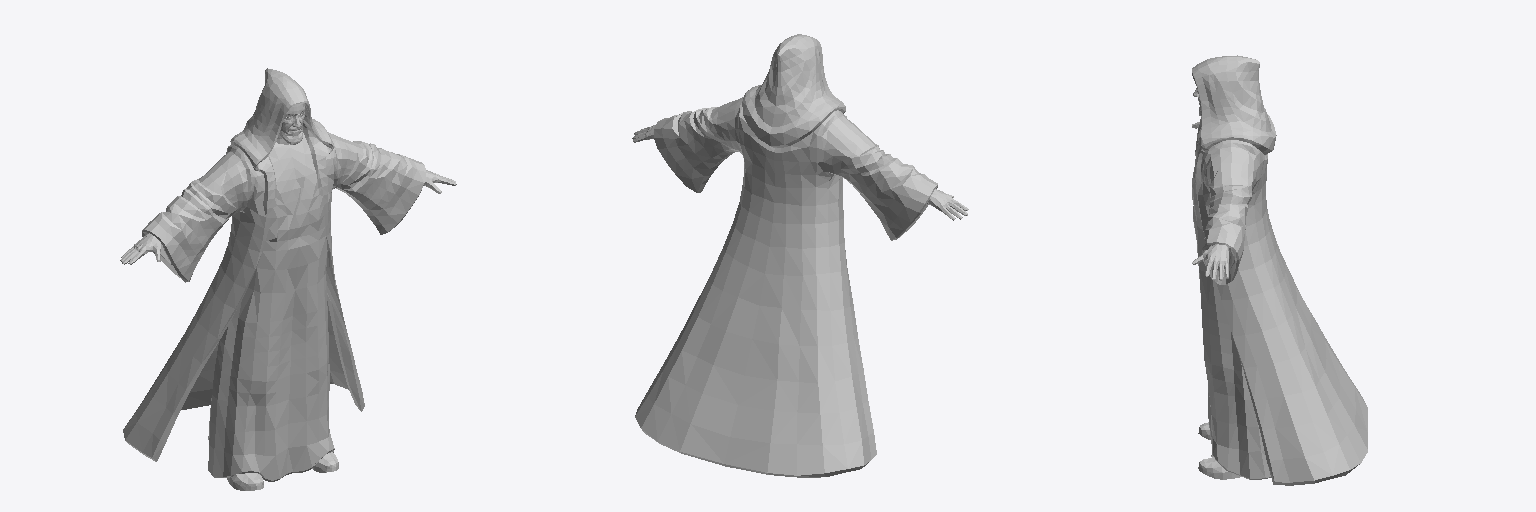
The model's file is ben kenobi.obj.
The picture shows the model from 3 angles: view 1: azimuth 30°, elevation 25°; view 2: azimuth 150°, elevation 25°; view 3: azimuth 270°, elevation 25°; orthographic projection.
Parts seen in each view (by area): view 1: Mesh_0064_Tex_0064_0_; view 2: Mesh_0064_Tex_0064_0_; view 3: Mesh_0064_Tex_0064_0_.
Boxes of the visible parts, <box> form: Mesh_0064_Tex_0064_0_: <box>120,68,456,490</box>; Mesh_0064_Tex_0064_0_: <box>632,34,968,477</box>; Mesh_0064_Tex_0064_0_: <box>1192,55,1367,485</box>.
Size of the model in its own units: 1.29 by 1.47 by 0.5916.